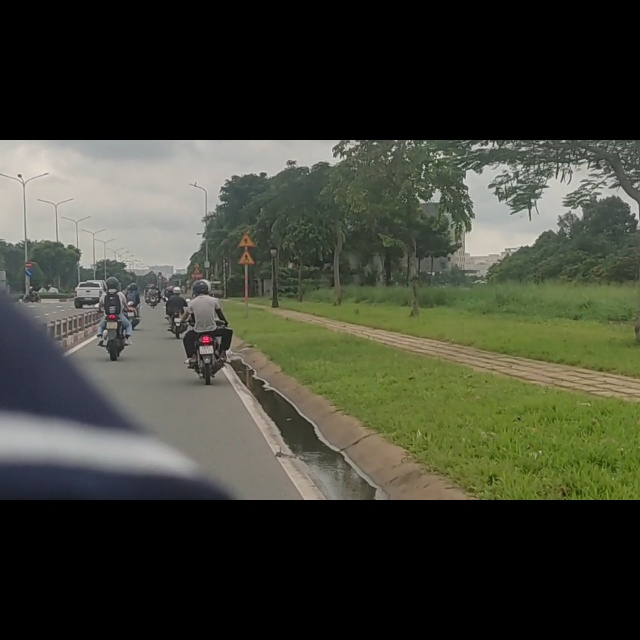bien_nguy_hiem: (237, 194, 255, 223), (237, 165, 255, 191), (25, 230, 33, 243), (25, 216, 33, 228)
